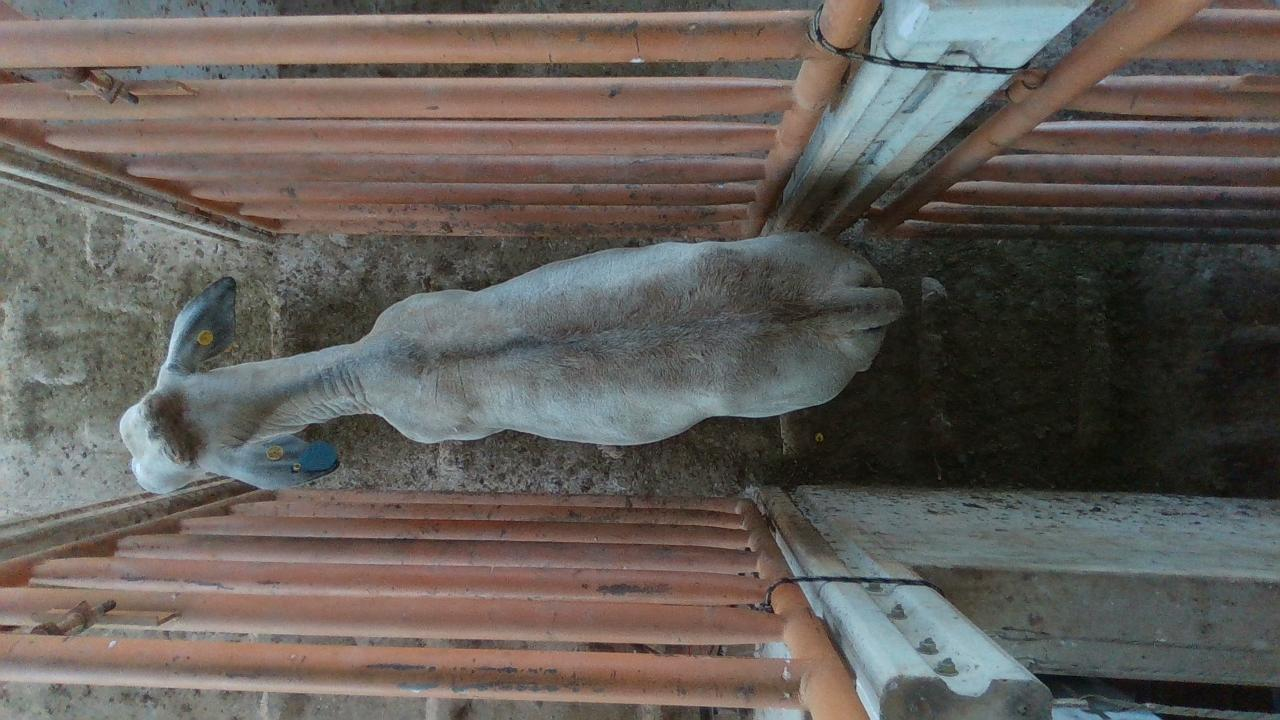cattle: (117, 227, 906, 495)
